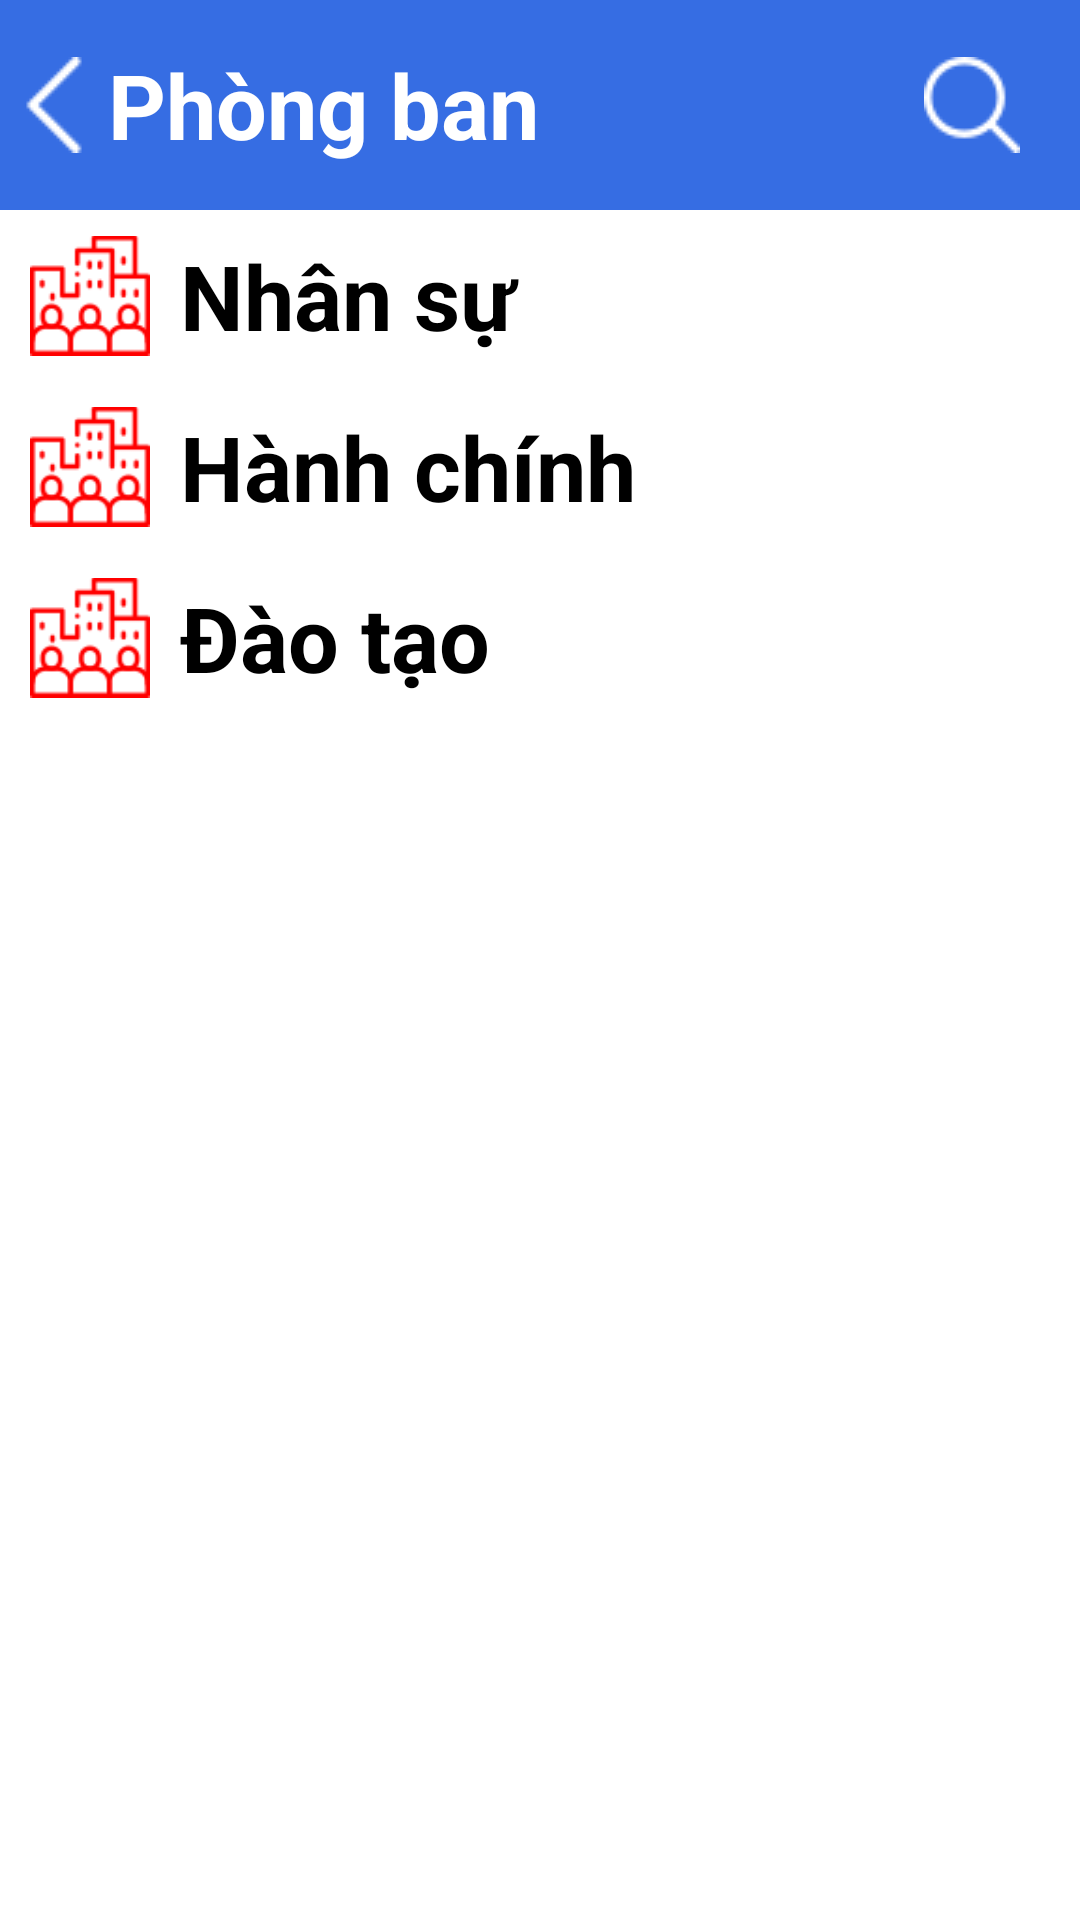

Icons on this 1080*1920 Android screen, each with its box as (x1, y1, x2, y2):
back: (26, 57, 82, 153)
city: (30, 236, 150, 356), (30, 407, 150, 527), (30, 578, 150, 698)
search: (924, 57, 1020, 153)
